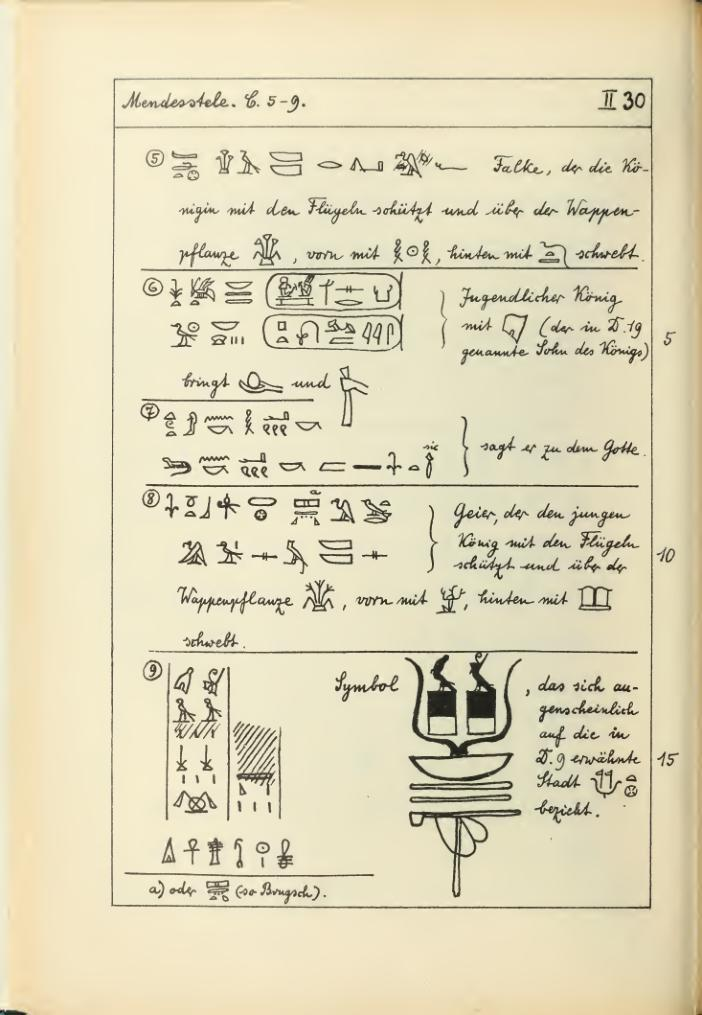circle: (260, 310, 421, 353), (257, 271, 417, 313)
